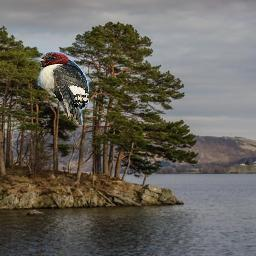Woodpecker: (27, 51, 89, 125)
